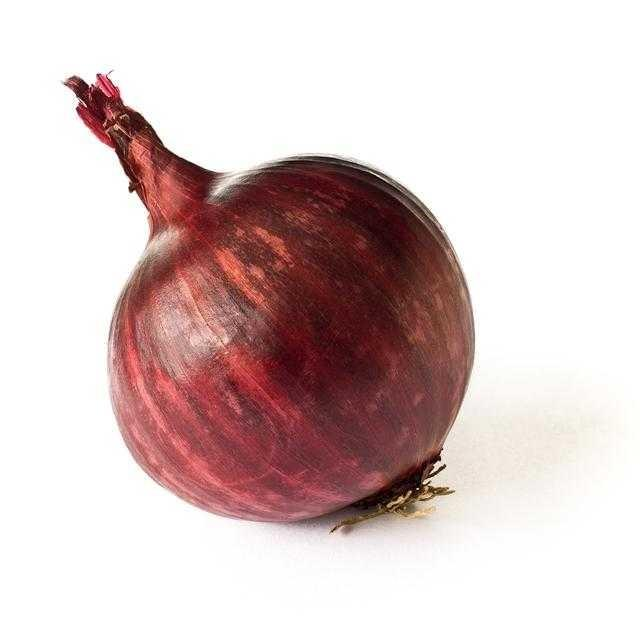Onion: (48, 60, 491, 557)
